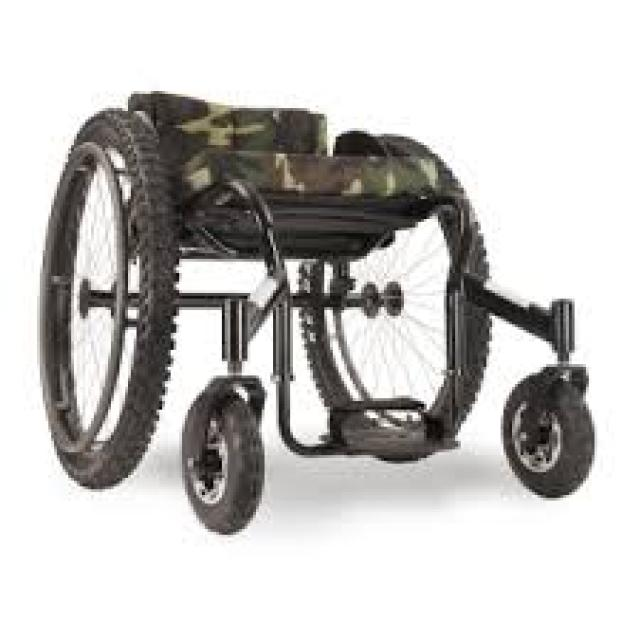wheelchairs: (37, 80, 600, 558)
